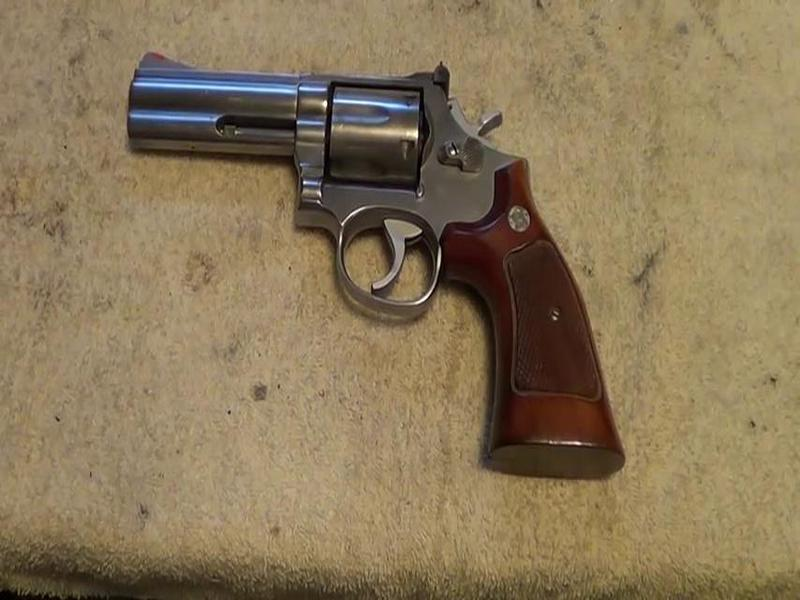Revolver: (114, 30, 668, 500)
